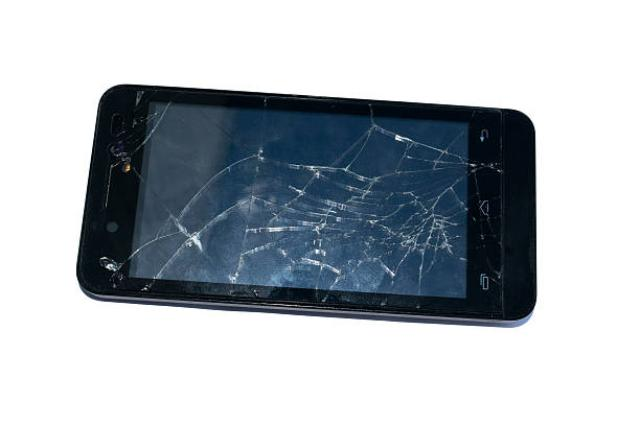Crack: (83, 84, 364, 333), (351, 108, 484, 324)
